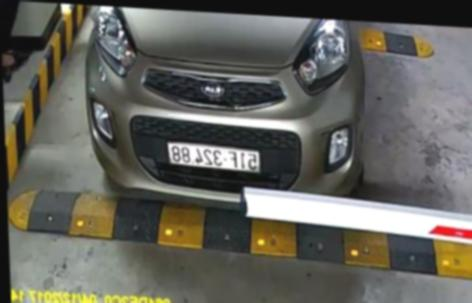License_Plate: (165, 138, 262, 175)
